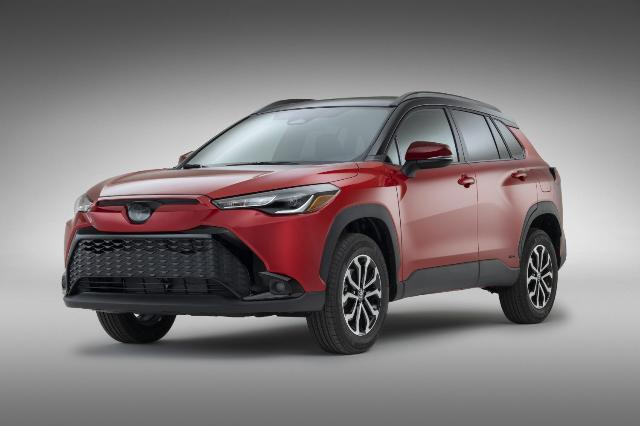toyota: (61, 90, 567, 356)
